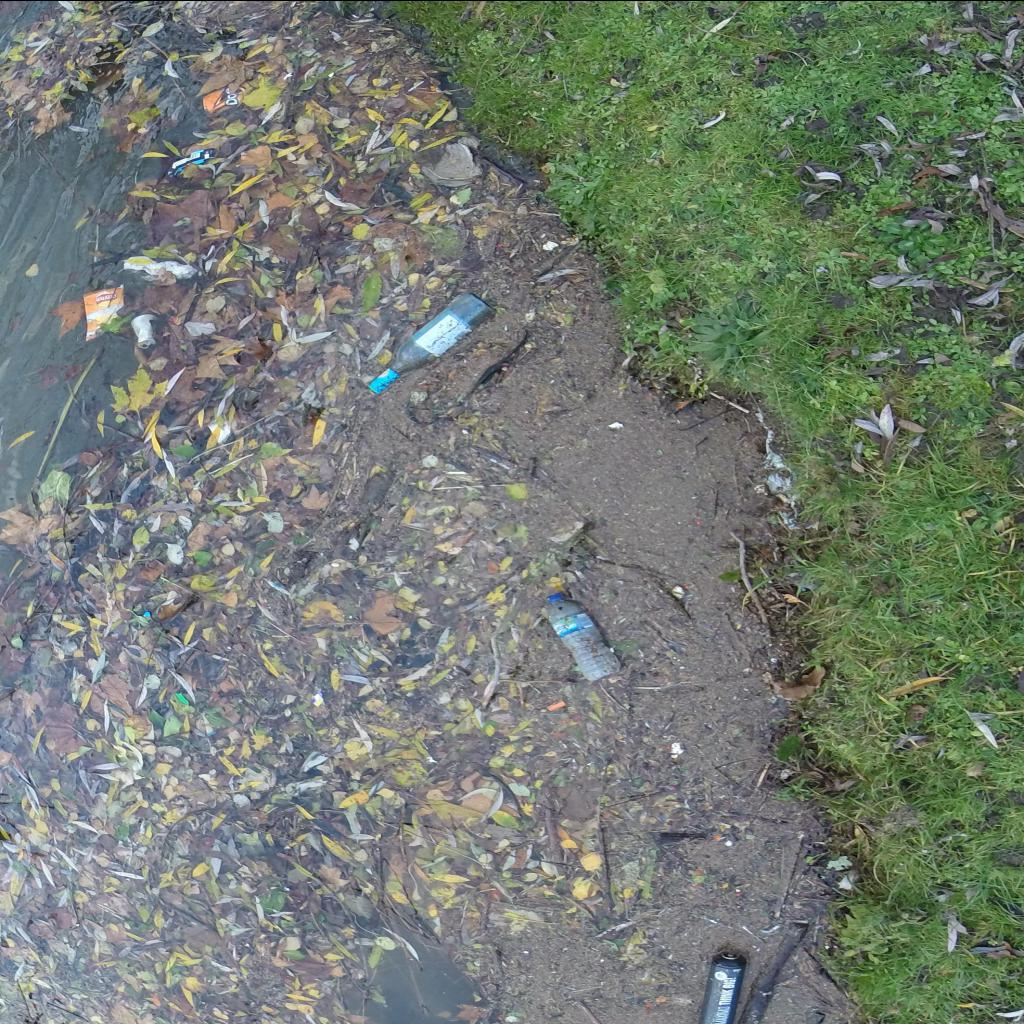Clear plastic bottle: (367, 292, 496, 394), (546, 592, 620, 680)
Other plastic: (166, 148, 216, 178)
Other plastic wrapper: (548, 700, 566, 710), (176, 692, 188, 704), (143, 611, 151, 616)
Unlabeled litter: (124, 256, 198, 278), (132, 314, 158, 348), (206, 718, 216, 735)
